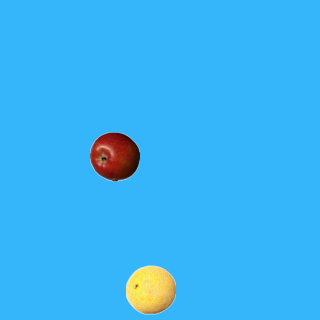Apple Braeburn: (89, 131, 139, 181)
Cantaloupe 1: (125, 264, 175, 314)
